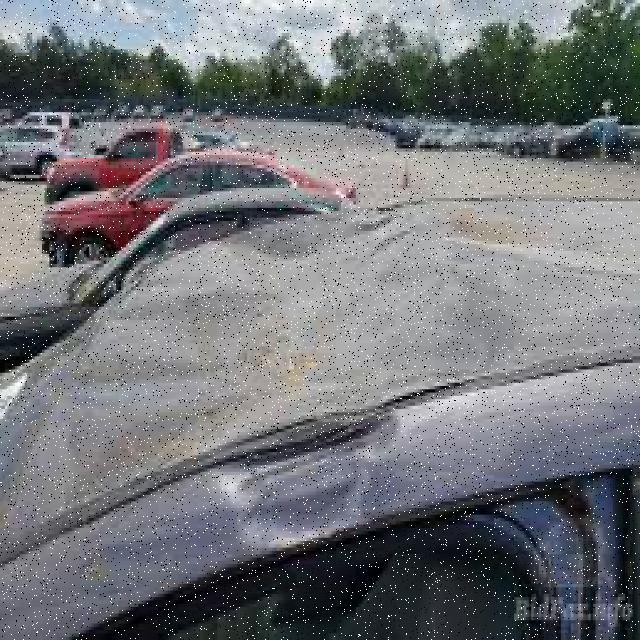roof-dent: (0, 198, 638, 588)
